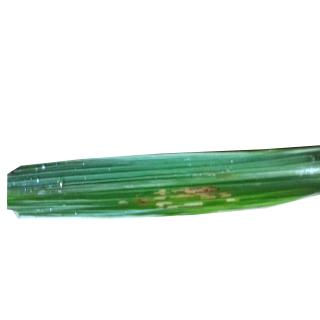Hawar-Daun: (183, 179, 226, 202), (132, 192, 150, 208)
